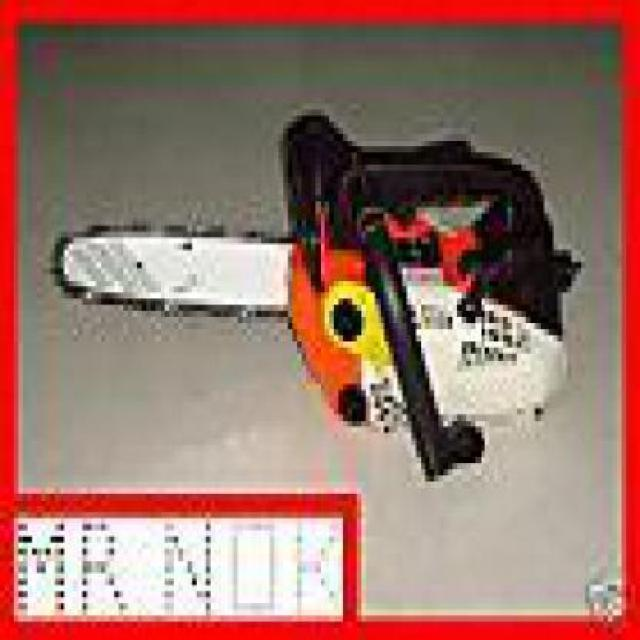Chainsaw: (56, 108, 586, 472)
